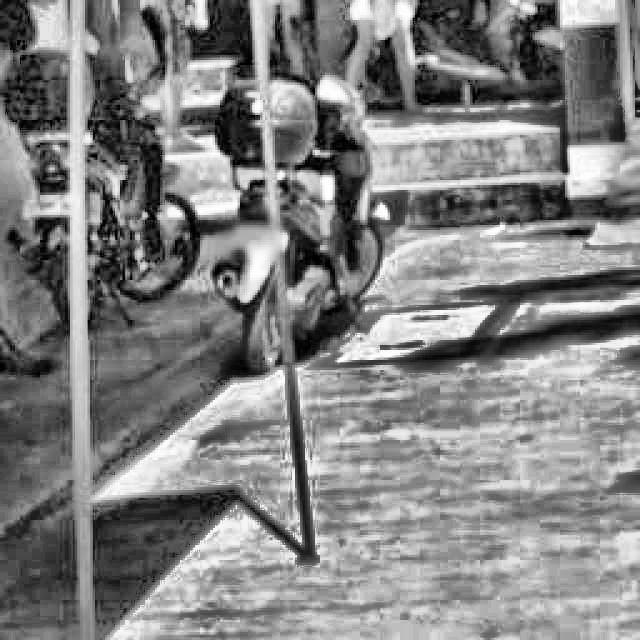motorcycle: (196, 64, 414, 374), (1, 7, 192, 326)
